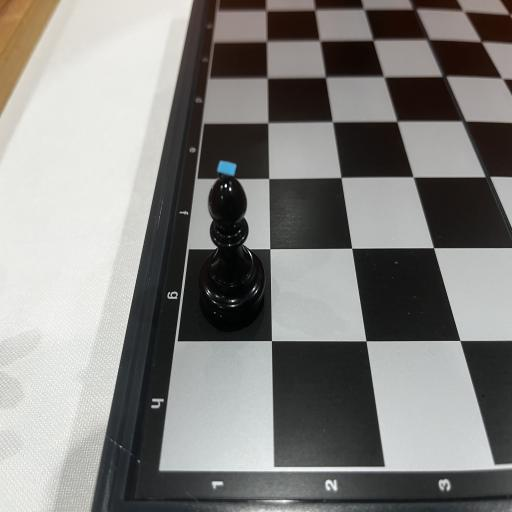Black bishop: (200, 160, 266, 324)
